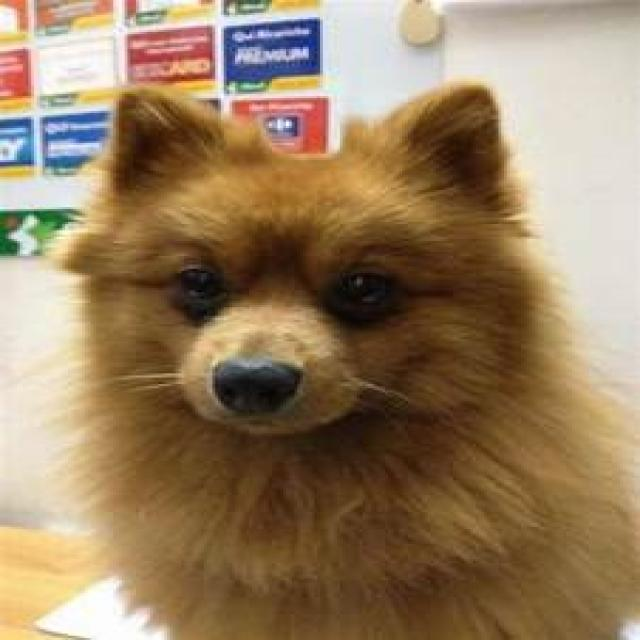dog: (31, 81, 637, 640)
